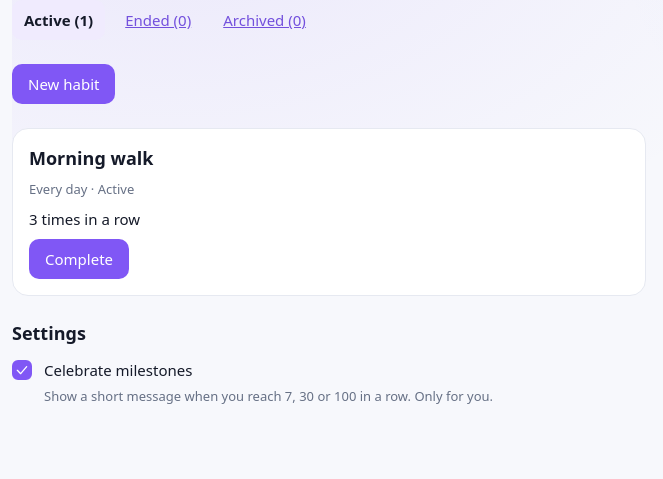
Test: the habit list › explains a refused check-in
Step 1. Click the button with aria-label "Complete Morning walk for today" → (79, 259), box [29, 239, 129, 279]
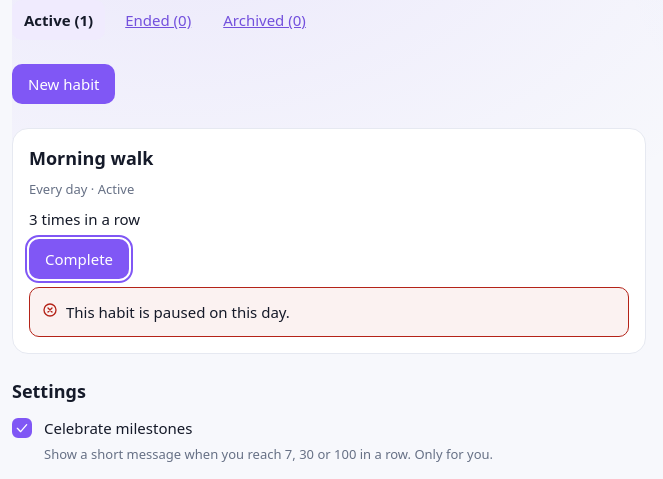
Check: the text "This habit is paused on this day." is shown, box [66, 300, 290, 324]
